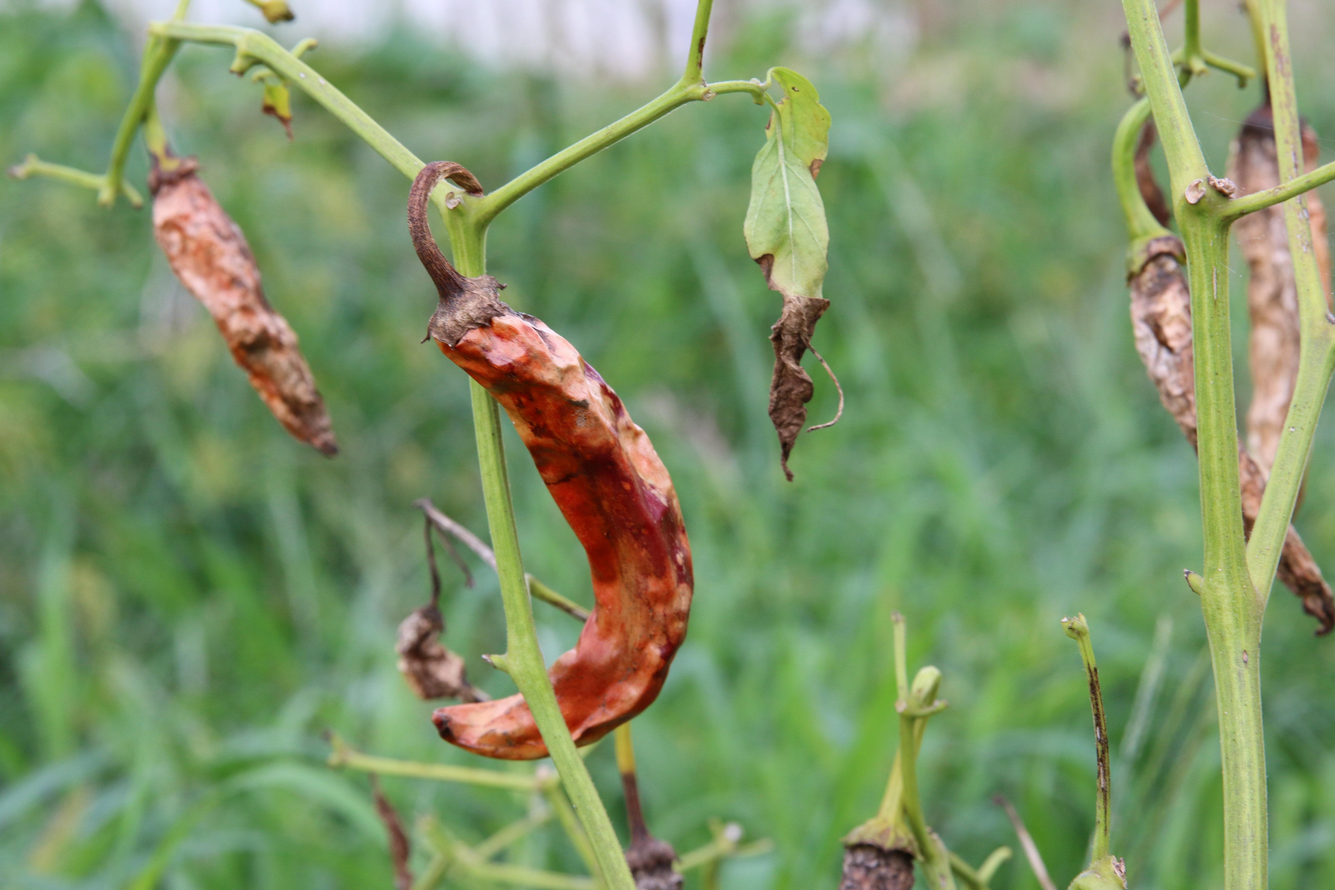Busuk Buah Antraknosa: (402, 158, 697, 764), (146, 150, 343, 469)
